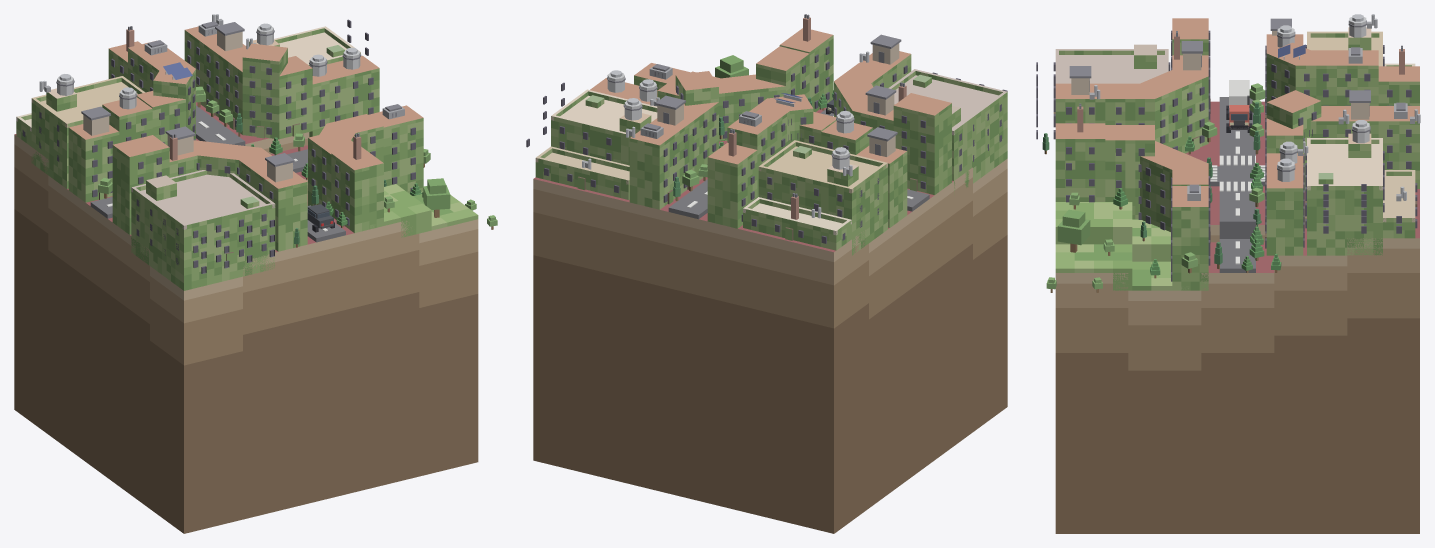
File: block_15_greenfacade_65.glb
3 renders of one model, left to right at view 1: azimuth 30°, elevation 25°; view 2: azimuth 150°, elevation 25°; view 3: azimuth 270°, elevation 25°, orthographic. The views are drawn at different scales.
Visible parts, largest first — view 1: Patch_MidRight_b16_GF, Cerda_MidRight_b16_GF, Insets_MidRight_b16_GF, CerdaRoofProps_MidRight_b16_GF, Green_MidRight_b16_GF, Roads_MidRight_b16_GF, Asset_Tree_Round.063_GF, Asset_Car.031_GF; view 2: Patch_MidRight_b16_GF, Cerda_MidRight_b16_GF, Insets_MidRight_b16_GF, CerdaRoofProps_MidRight_b16_GF, Roads_MidRight_b16_GF, Asset_Tree_Round.063_GF; view 3: Patch_MidRight_b16_GF, Cerda_MidRight_b16_GF, Insets_MidRight_b16_GF, Green_MidRight_b16_GF, CerdaRoofProps_MidRight_b16_GF, Roads_MidRight_b16_GF, Asset_Truck.008_GF, Asset_Tree_Round.063_GF, Zebra_MidRight_b16_GF.
Part boxes in pixels (x1,y1,x2,y2): Patch_MidRight_b16_GF: (14,102,478,533); Cerda_MidRight_b16_GF: (68,26,423,251); Insets_MidRight_b16_GF: (16,19,368,290); CerdaRoofProps_MidRight_b16_GF: (39,14,404,182); Green_MidRight_b16_GF: (370,184,478,237); Roads_MidRight_b16_GF: (90,105,345,242); Asset_Tree_Round.063_GF: (423,178,450,217); Asset_Car.031_GF: (307,204,334,232); Patch_MidRight_b16_GF: (533,107,1007,533); Cerda_MidRight_b16_GF: (590,28,951,228); Insets_MidRight_b16_GF: (526,69,1007,255); CerdaRoofProps_MidRight_b16_GF: (582,14,906,219); Roads_MidRight_b16_GF: (668,109,929,219); Asset_Tree_Round.063_GF: (715,55,748,78); Patch_MidRight_b16_GF: (1055,101,1419,533); Cerda_MidRight_b16_GF: (1055,18,1419,290); Insets_MidRight_b16_GF: (1036,27,1417,255); Green_MidRight_b16_GF: (1055,202,1188,290); CerdaRoofProps_MidRight_b16_GF: (1069,14,1420,201); Roads_MidRight_b16_GF: (1210,97,1264,272); Asset_Truck.008_GF: (1226,80,1252,132); Asset_Tree_Round.063_GF: (1057,209,1090,252); Zebra_MidRight_b16_GF: (1210,155,1265,191).
Size of the model in its own units: 10.04 by 11.2 by 10.01.
